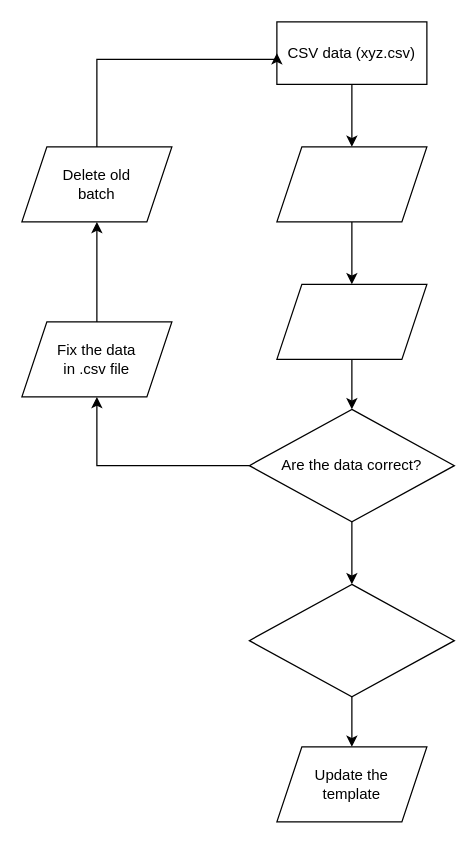
Some shapes in this 476 by 844 pixel diagram are drawn without their labels. The shapes that lost their labels are listed below. From the top down, each one's box as (x1, y1, x2, y2) in pixels, then its label:
(276, 146, 427, 222): Import data to app (create batch)
(276, 283, 427, 359): check the imported data
(248, 583, 454, 697): Do I need template change?
